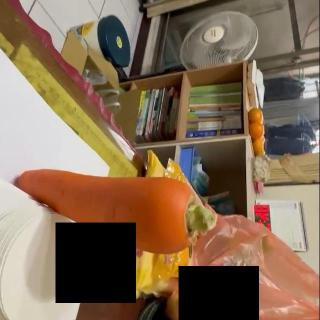carrot: (13, 160, 213, 251)
